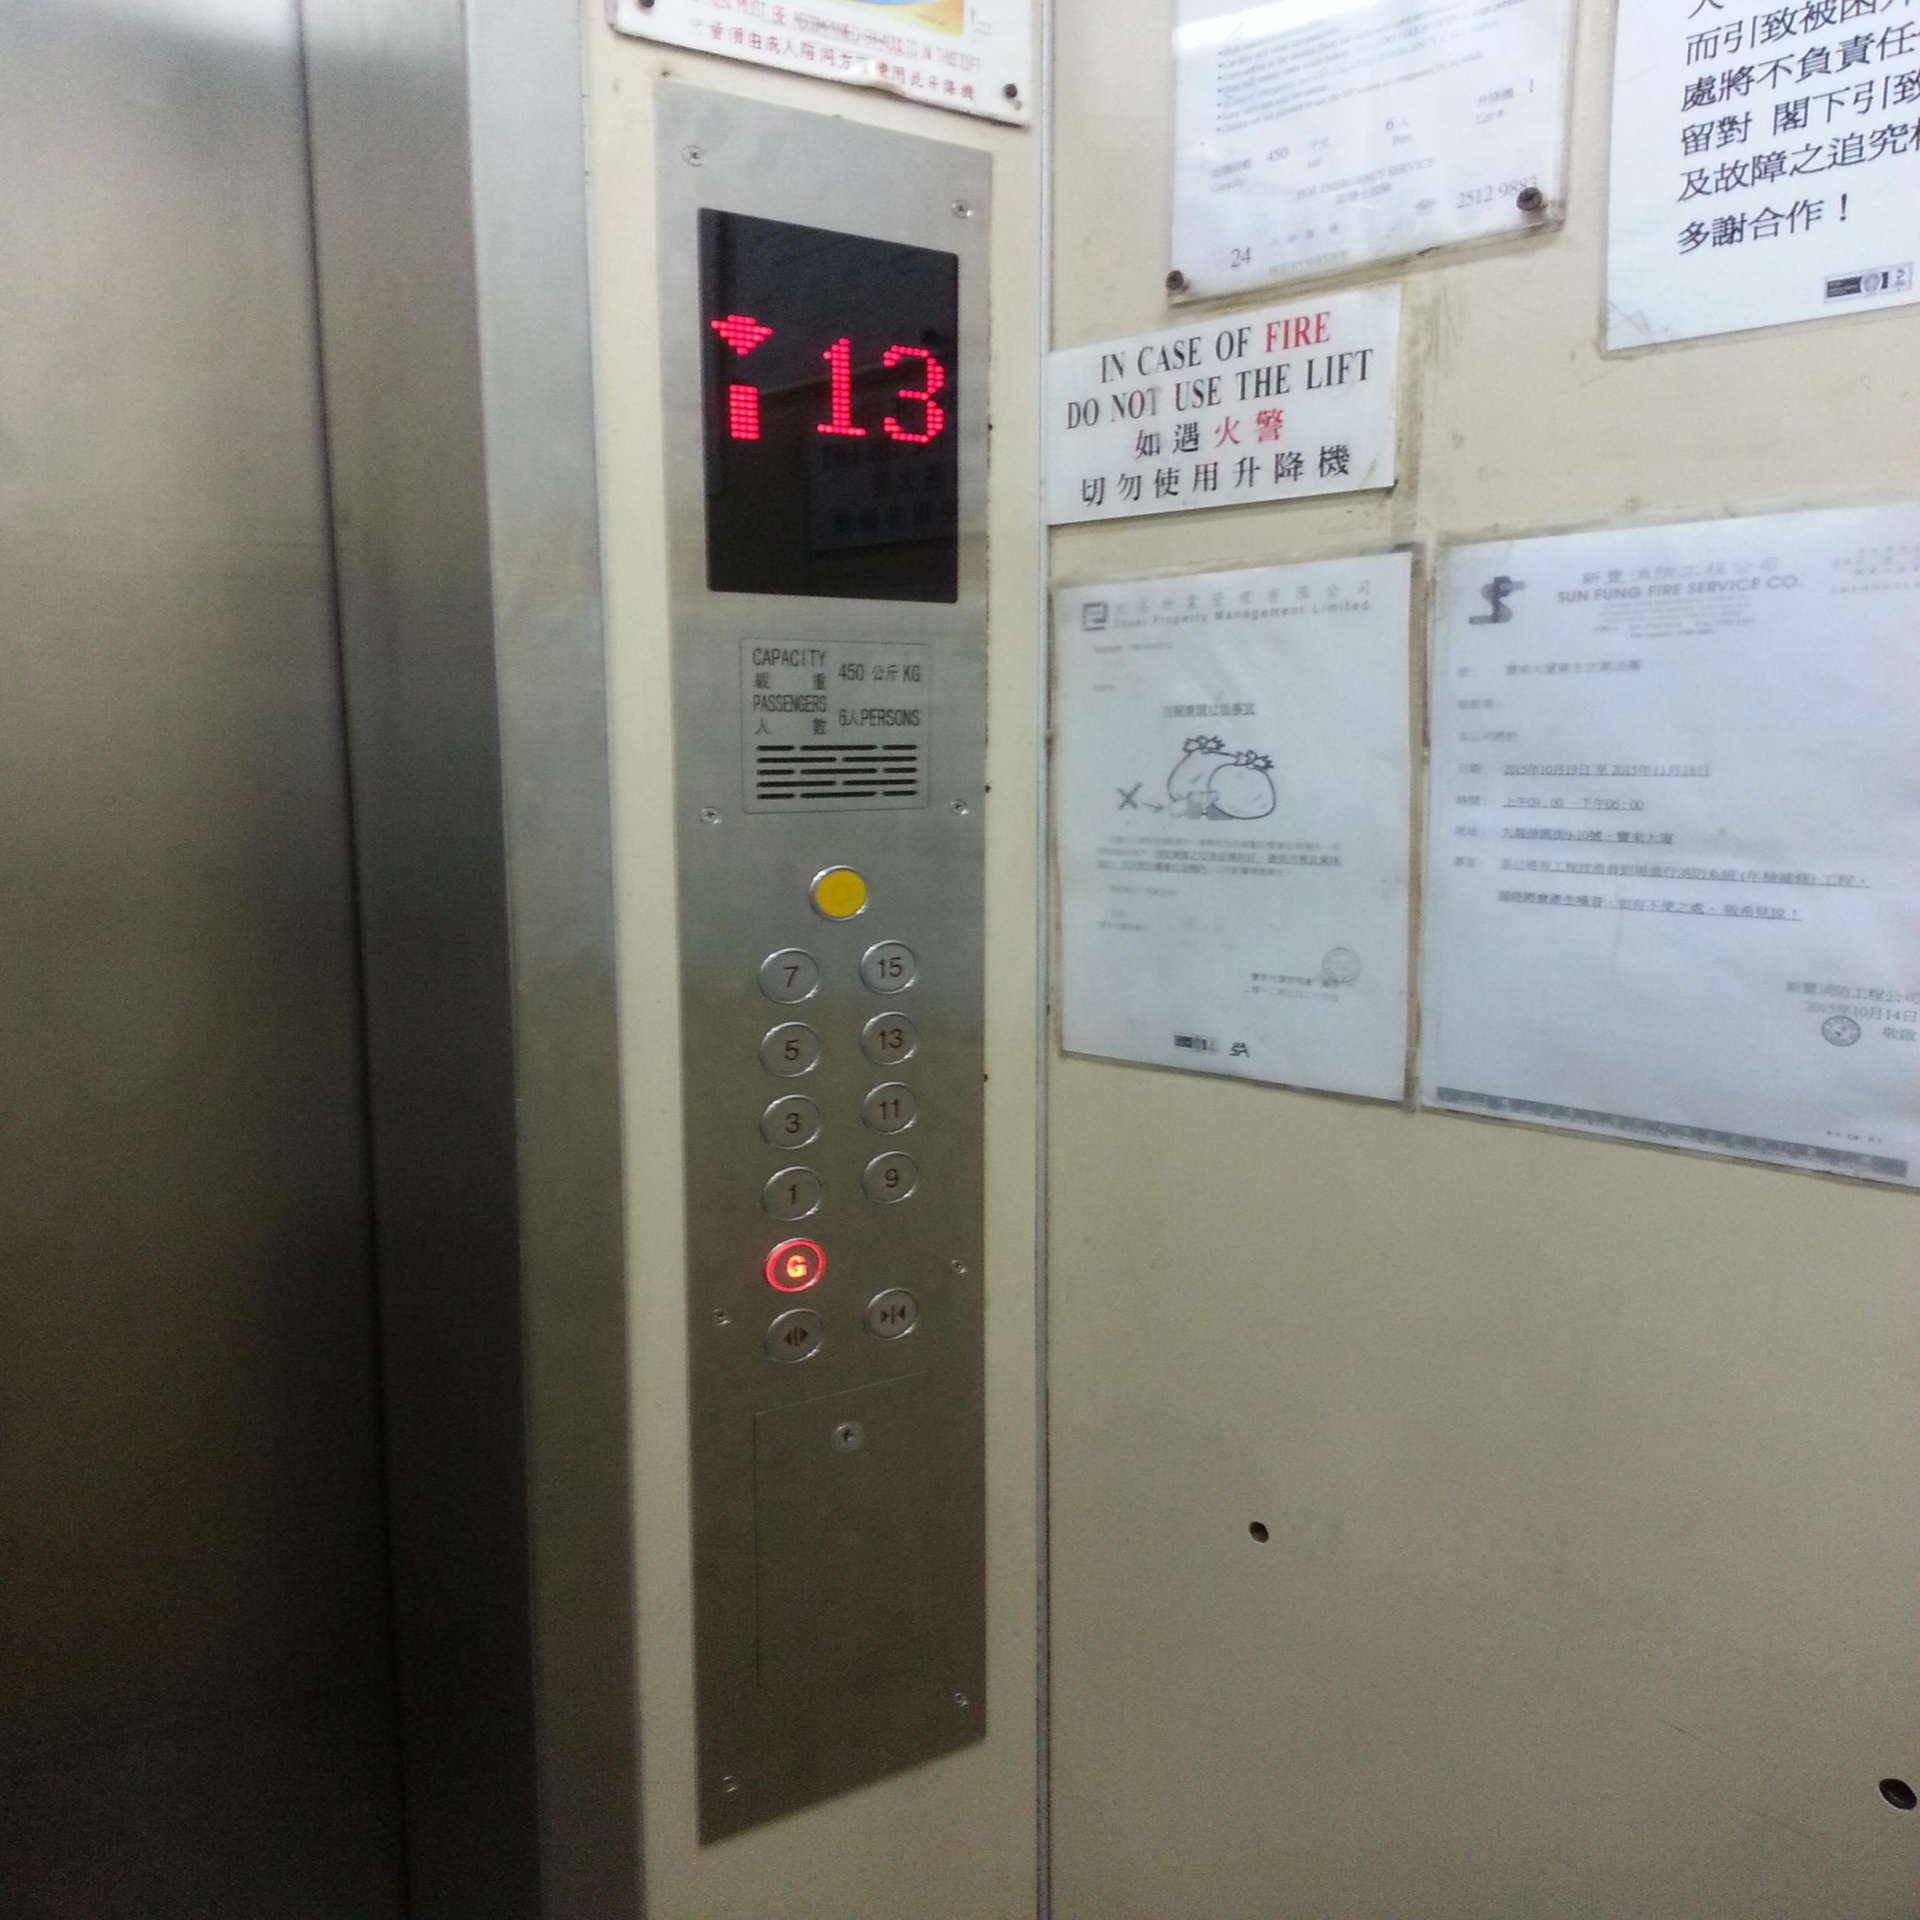1: (758, 1162, 826, 1225)
11: (856, 1078, 921, 1138)
13: (855, 1007, 921, 1069)
15: (855, 935, 921, 999)
3: (754, 1090, 825, 1153)
5: (756, 1018, 826, 1081)
7: (753, 944, 823, 1007)
9: (856, 1146, 921, 1206)
G: (760, 1234, 828, 1296)
alarm: (804, 862, 874, 927)
close: (860, 1284, 921, 1342)
led: (691, 197, 964, 612)
open: (761, 1305, 828, 1366)
